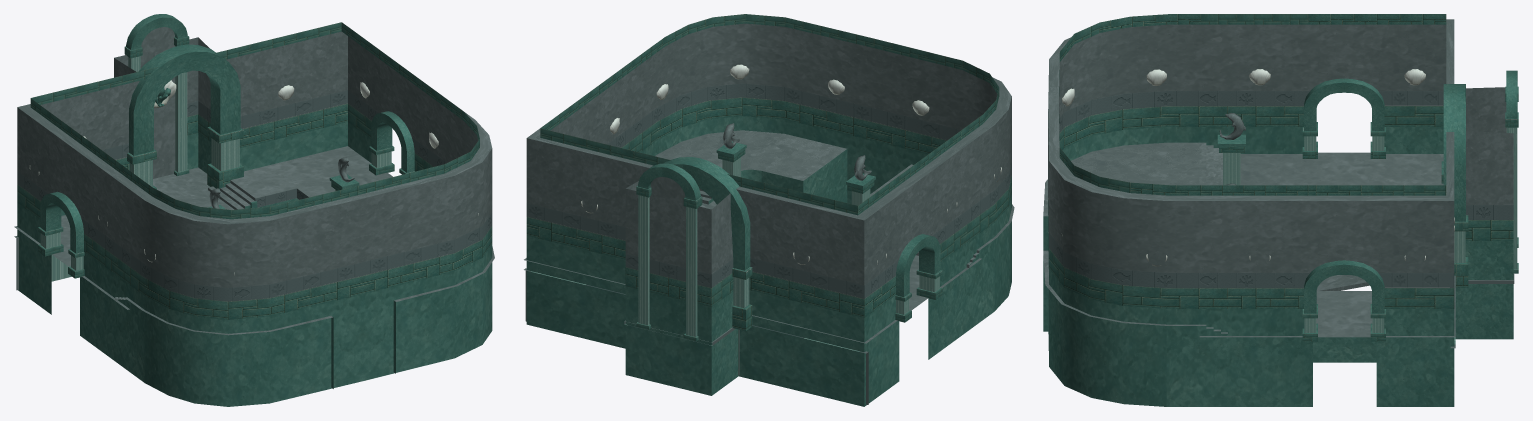
Rendered from m_level.fbx.
3 renders of one model, left to right at view 1: azimuth 30°, elevation 25°; view 2: azimuth 150°, elevation 25°; view 3: azimuth 270°, elevation 25°, orthographic. The views are drawn at different scales.
Parts seen in each view (by area): view 1: m_level; view 2: m_level; view 3: m_level.
Part boxes in pixels (x1,y1,x2,y2): m_level: (14,14,494,406); m_level: (524,14,1014,406); m_level: (1043,14,1518,406).
Size of the model in its own units: 21.51 by 12.6 by 22.47.
